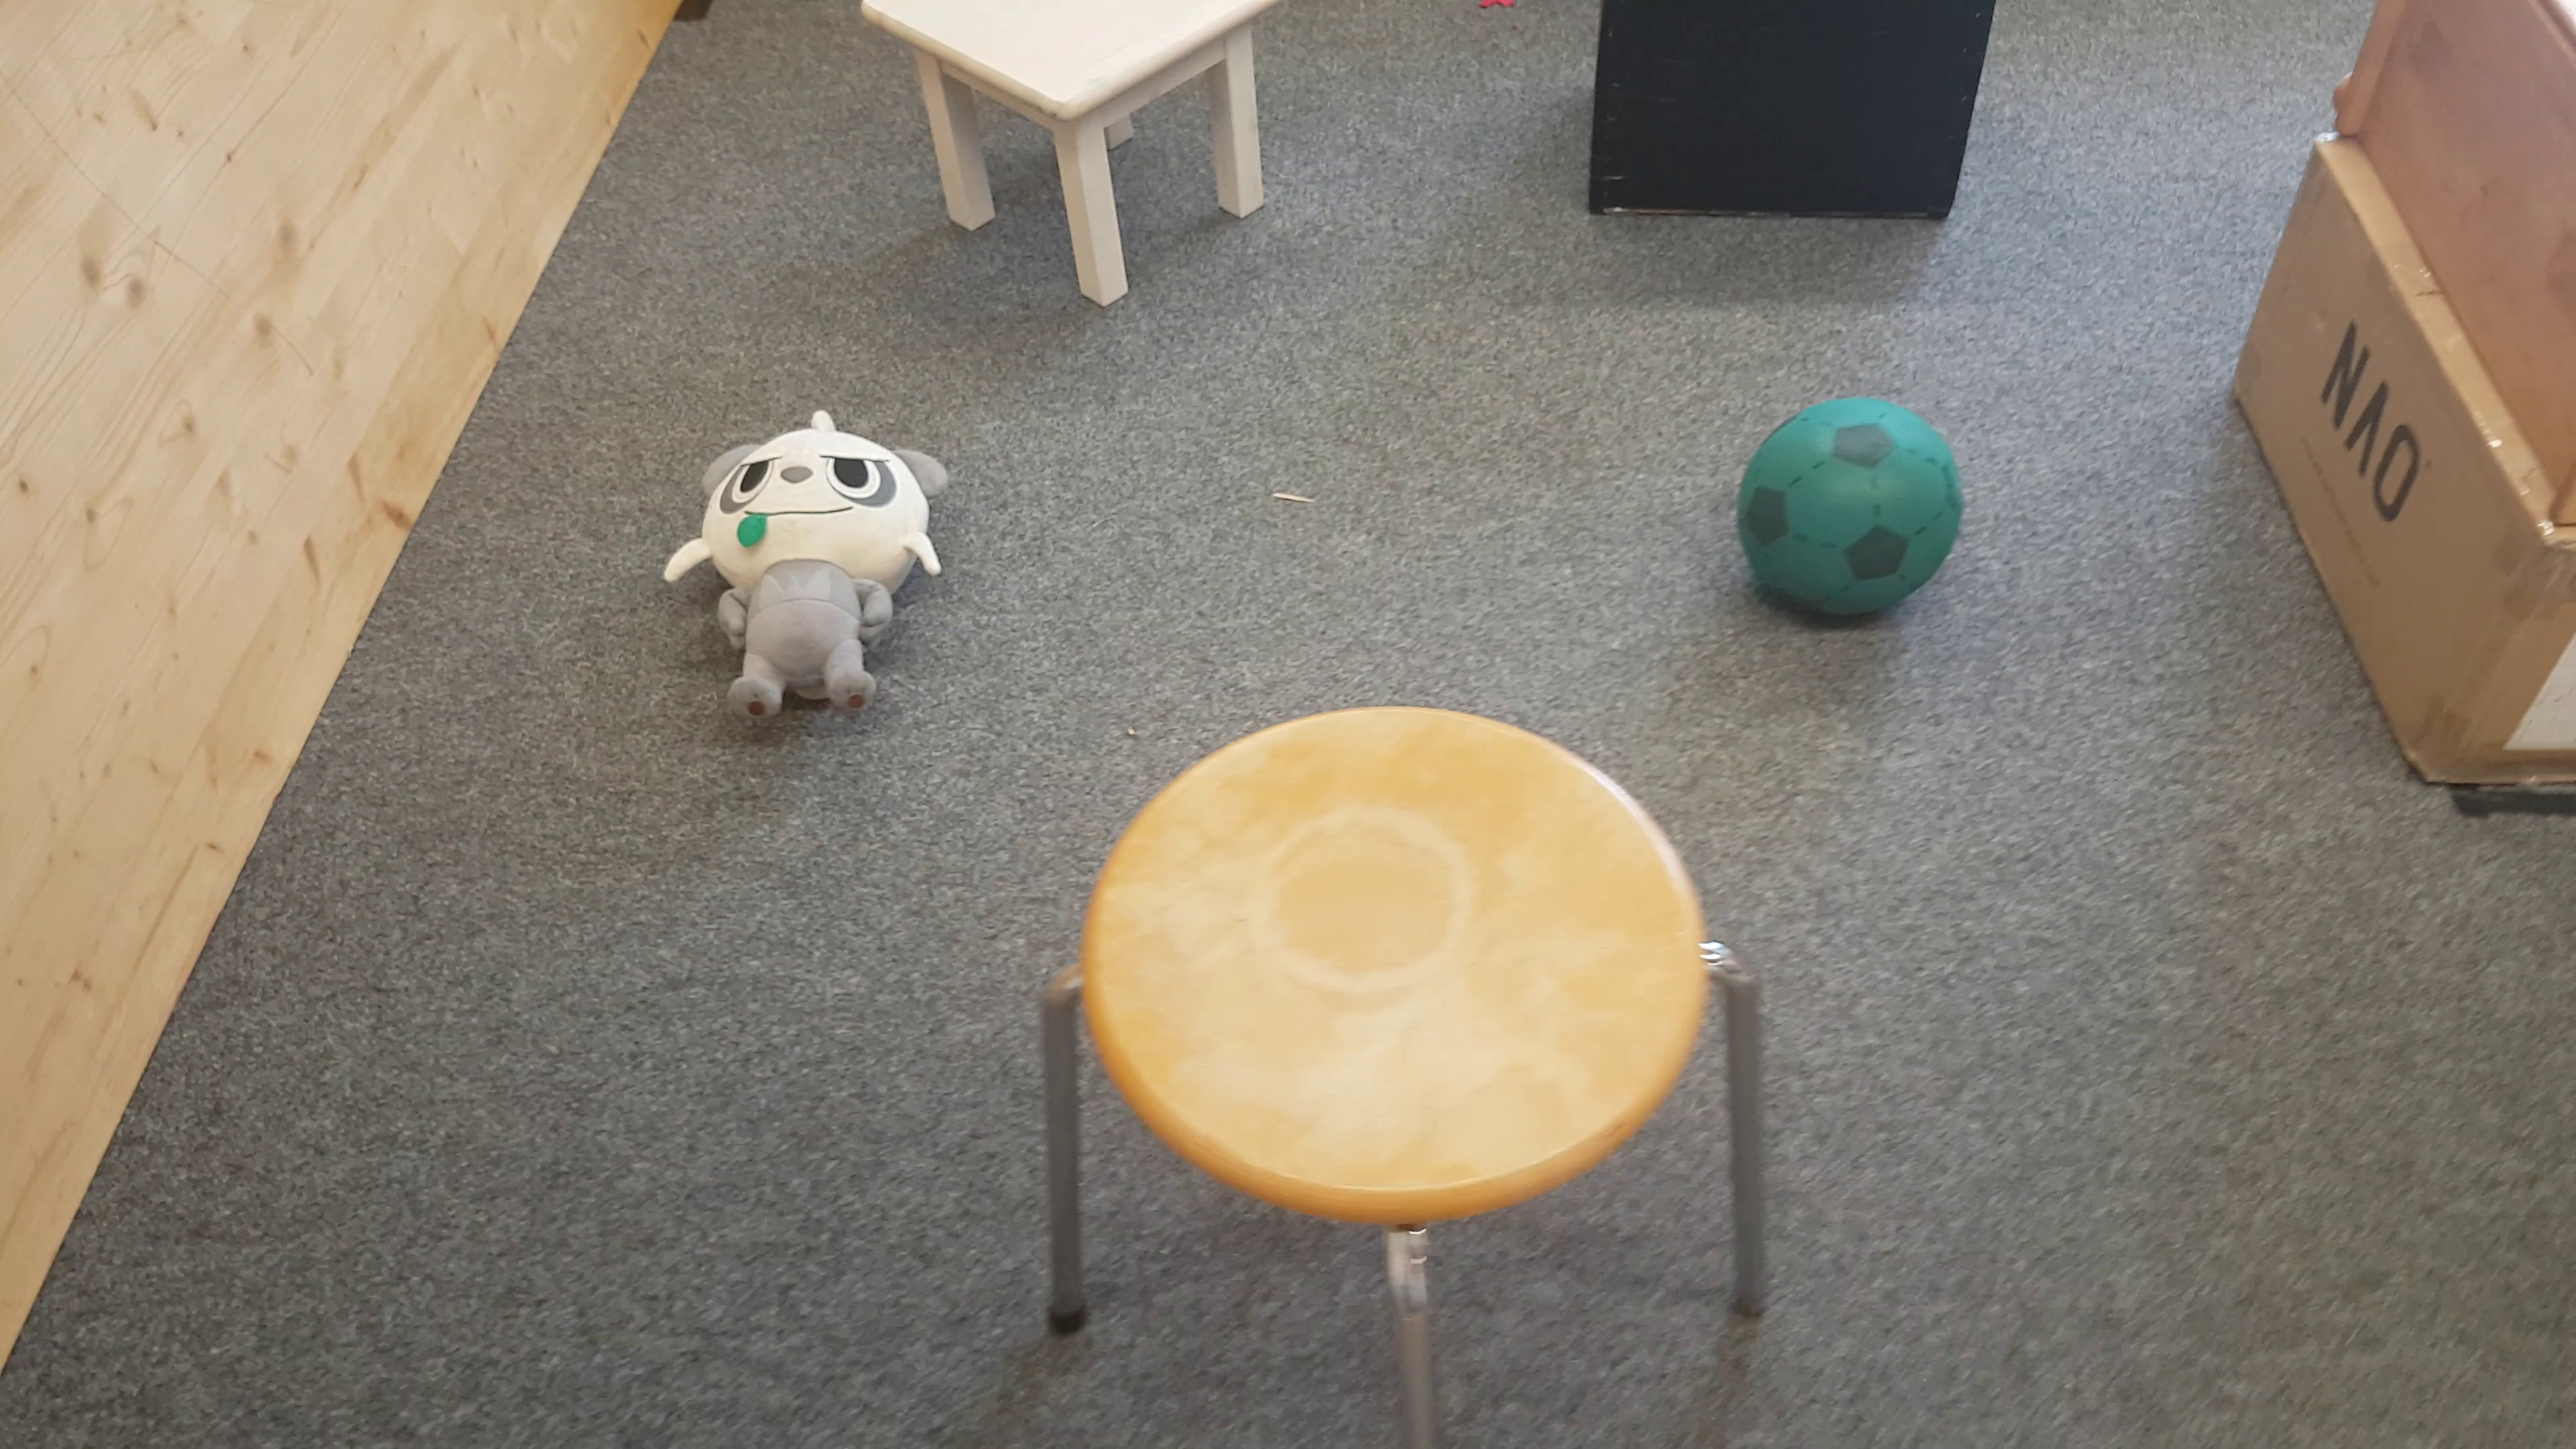grasp: (676, 409, 952, 720)
kick: (1739, 395, 1959, 635)
push: (1589, 5, 1996, 235)
